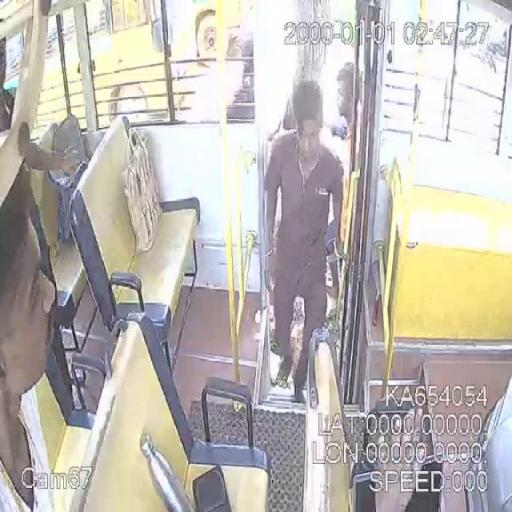persona: (262, 80, 346, 402), (0, 185, 68, 512)
